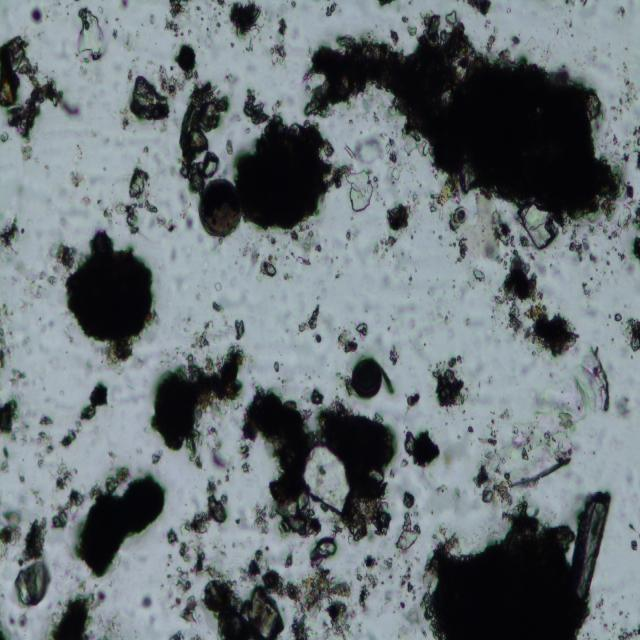Background material: (391, 12, 626, 230), (428, 488, 612, 640), (51, 220, 161, 378), (229, 111, 345, 242), (240, 386, 320, 538), (146, 340, 248, 452), (69, 466, 165, 578), (471, 394, 572, 500), (321, 405, 393, 541), (283, 556, 396, 640), (493, 254, 579, 361), (202, 538, 287, 640), (300, 27, 394, 116), (0, 32, 66, 144), (174, 72, 234, 191), (100, 162, 178, 242), (0, 507, 52, 605), (598, 59, 640, 176), (476, 197, 559, 254), (164, 527, 202, 640), (115, 66, 181, 130), (45, 586, 105, 640), (573, 335, 613, 416), (205, 0, 262, 53), (427, 352, 473, 412), (557, 199, 617, 240), (72, 8, 106, 78), (36, 231, 83, 281), (0, 297, 29, 368), (182, 493, 228, 537), (236, 241, 285, 281), (189, 538, 231, 584), (340, 164, 376, 216), (0, 224, 35, 275), (611, 173, 640, 234), (425, 178, 469, 216), (404, 427, 440, 470), (14, 268, 52, 306), (290, 225, 324, 267), (342, 131, 384, 164), (238, 89, 274, 127), (49, 489, 84, 527), (33, 414, 58, 466), (308, 531, 344, 567), (77, 380, 107, 423), (0, 396, 26, 444), (207, 426, 231, 473), (174, 45, 202, 84), (160, 0, 189, 35), (383, 134, 403, 184), (267, 15, 287, 64), (298, 299, 322, 337), (395, 512, 419, 550), (190, 318, 216, 352), (204, 465, 232, 495), (609, 390, 637, 420), (385, 202, 413, 232), (568, 240, 597, 267), (234, 434, 252, 476), (249, 501, 271, 535), (374, 237, 404, 261), (174, 193, 192, 232), (335, 326, 360, 354), (60, 418, 84, 447), (398, 564, 418, 598), (450, 231, 470, 264), (296, 382, 323, 406), (100, 613, 124, 640), (623, 316, 640, 354), (330, 368, 353, 395), (63, 94, 83, 124), (188, 435, 204, 469), (448, 207, 472, 229), (22, 5, 42, 28), (57, 460, 73, 487), (232, 313, 248, 339), (31, 485, 48, 509), (321, 0, 341, 19), (578, 278, 598, 297), (467, 0, 493, 14), (7, 369, 27, 387), (406, 390, 423, 410), (380, 371, 394, 395), (618, 624, 639, 640), (0, 445, 12, 473), (68, 170, 84, 190), (75, 188, 95, 204), (6, 612, 28, 626), (206, 240, 231, 252), (353, 321, 368, 340), (20, 146, 37, 162), (402, 491, 418, 508), (630, 235, 640, 262), (0, 620, 12, 640), (410, 610, 424, 626), (534, 48, 550, 62), (342, 230, 353, 250), (222, 138, 234, 156), (150, 448, 164, 463), (440, 310, 453, 326), (473, 267, 485, 284), (590, 46, 600, 64), (388, 345, 398, 363), (615, 247, 627, 262), (270, 358, 282, 372), (616, 5, 626, 21), (107, 27, 119, 40), (614, 308, 624, 323), (390, 31, 400, 46), (232, 514, 244, 526), (630, 537, 640, 551), (561, 0, 576, 9), (228, 72, 237, 87), (119, 0, 131, 11), (396, 597, 406, 610), (565, 16, 575, 29), (378, 0, 394, 8), (148, 9, 156, 25), (142, 598, 152, 610), (213, 300, 223, 311), (503, 3, 511, 14), (0, 132, 8, 142), (578, 0, 589, 7), (316, 333, 322, 344), (451, 279, 457, 290), (215, 281, 221, 292), (20, 472, 26, 483), (109, 451, 117, 458), (569, 31, 575, 40), (605, 259, 612, 266), (604, 249, 610, 256), (556, 28, 560, 36)
Diatom: (200, 178, 240, 238), (349, 354, 385, 401)
Fragment: (300, 438, 355, 514)
